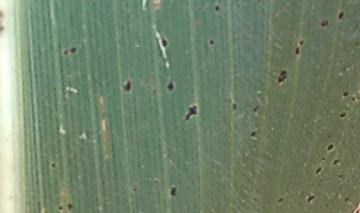tarspot: (185, 102, 198, 121), (277, 69, 288, 84), (122, 78, 131, 92), (165, 79, 175, 91), (319, 17, 329, 29), (169, 183, 177, 197), (306, 193, 315, 203), (160, 36, 168, 47), (336, 9, 344, 20), (314, 164, 322, 175), (252, 103, 260, 113), (326, 142, 334, 152), (294, 45, 301, 56), (206, 38, 215, 46), (342, 88, 349, 98), (332, 156, 339, 166), (213, 3, 220, 12), (249, 128, 256, 137), (320, 153, 327, 162), (276, 196, 285, 203), (61, 48, 69, 55), (70, 45, 77, 53), (298, 38, 305, 46), (350, 94, 357, 102), (343, 194, 350, 202), (49, 161, 56, 168), (131, 185, 138, 192), (231, 102, 237, 110), (337, 171, 343, 179), (68, 202, 73, 211), (340, 111, 346, 118), (58, 204, 63, 211)
